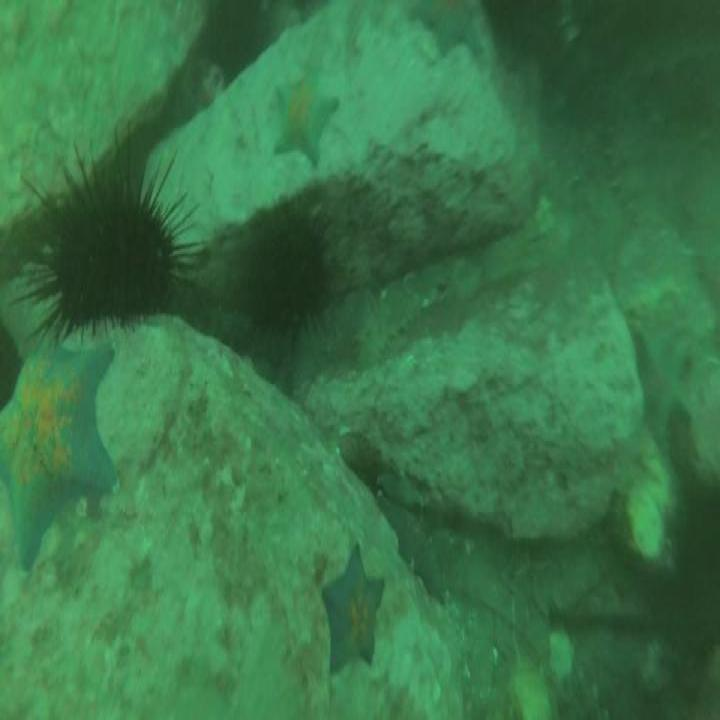echinus: (15, 132, 191, 340), (241, 201, 337, 348), (668, 462, 720, 688), (201, 0, 266, 80)
holothurian: (353, 286, 420, 372)
starfish: (0, 336, 128, 574), (374, 482, 449, 613), (320, 546, 385, 681), (266, 73, 340, 165)
